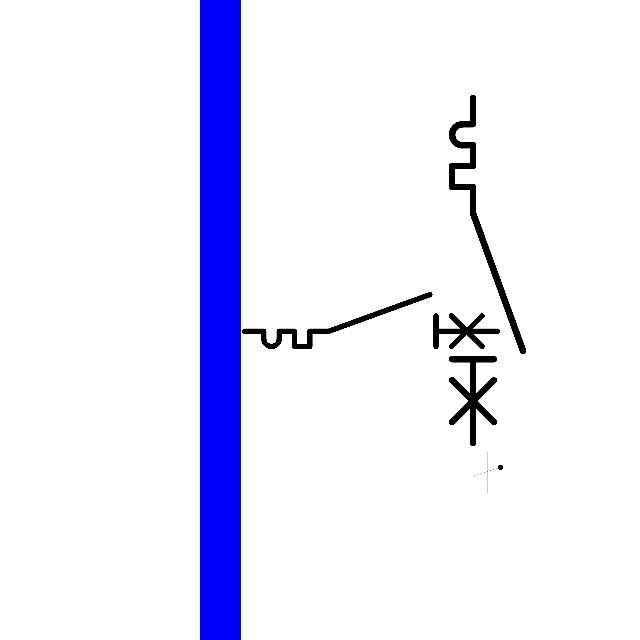interruptor_termomagnetico: (443, 89, 531, 451), (238, 288, 503, 353)
